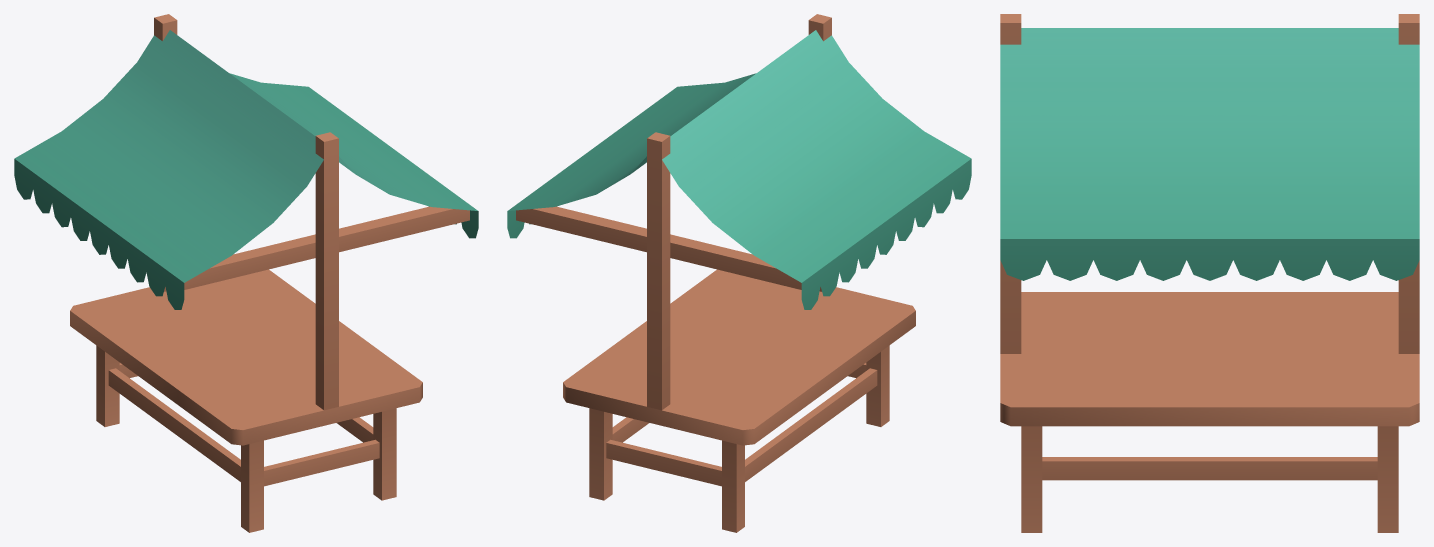
Rendered from stall_1.fbx.
The picture shows the model from 3 angles, left to right: view 1: azimuth 30°, elevation 25°; view 2: azimuth 150°, elevation 25°; view 3: azimuth 270°, elevation 25°; orthographic projection. The views are drawn at different scales.
Visible parts, largest first — view 1: stall_1; view 2: stall_1; view 3: stall_1.
Part boxes in pixels (x1,y1,x2,y2): stall_1: (14, 14, 478, 532); stall_1: (507, 14, 971, 532); stall_1: (1000, 14, 1419, 532).
Bounding box in the file's own units: 1 × 1.24 × 1.
1 material, 1 textured.
